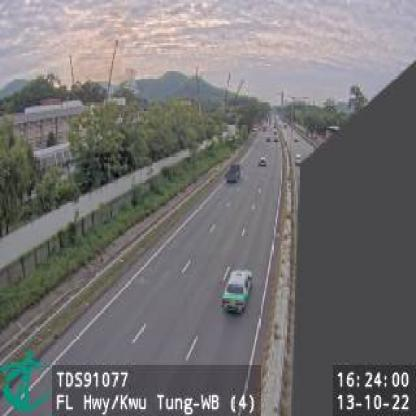Car: (220, 264, 256, 318), (225, 161, 243, 184)
